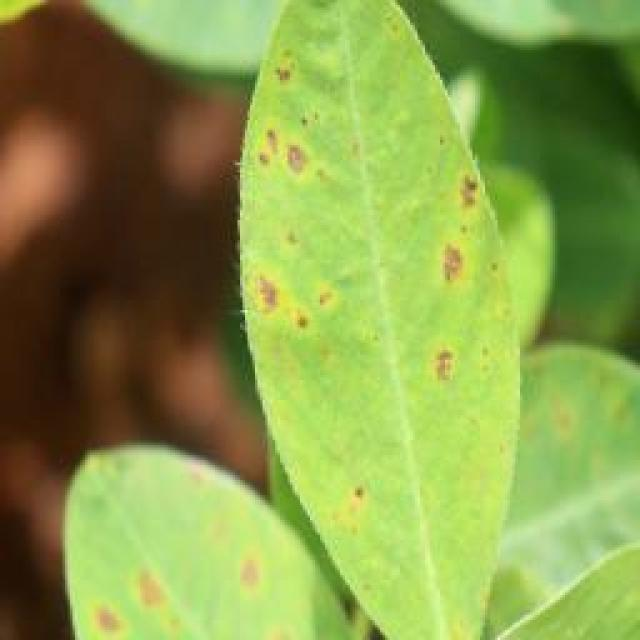Sigatoka: (68, 500, 301, 640), (215, 22, 326, 184), (230, 229, 377, 346), (407, 155, 514, 309), (400, 334, 487, 416)
